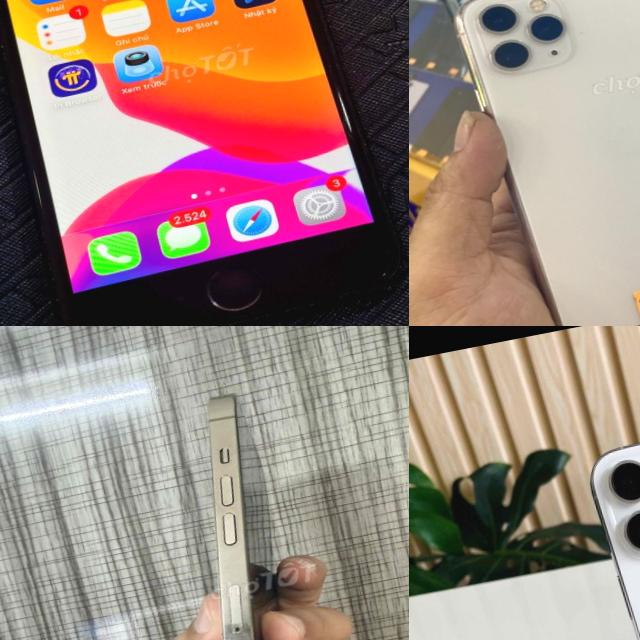gen_11: (455, 0, 640, 326)
gen_14: (139, 378, 328, 640)
gen_7_8: (0, 0, 409, 326)
